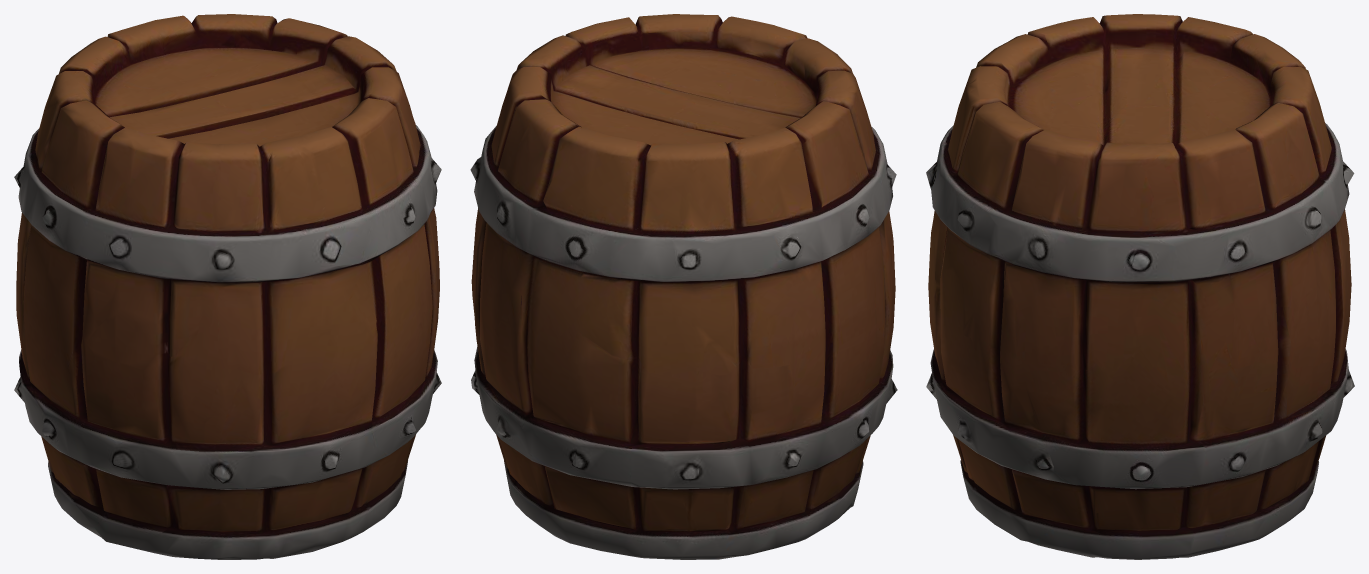
The model's file is barril.glb.
3 renders of one model, left to right at view 1: azimuth 30°, elevation 25°; view 2: azimuth 150°, elevation 25°; view 3: azimuth 270°, elevation 25°, orthographic.
Visible parts, largest first — view 1: tripo_node_68ee5150-70bb-452a-a6b7-eeb33f22aaec; view 2: tripo_node_68ee5150-70bb-452a-a6b7-eeb33f22aaec; view 3: tripo_node_68ee5150-70bb-452a-a6b7-eeb33f22aaec.
Part boxes in pixels (left/top/right/bottom): tripo_node_68ee5150-70bb-452a-a6b7-eeb33f22aaec: left=14, top=14, right=441, bottom=559; tripo_node_68ee5150-70bb-452a-a6b7-eeb33f22aaec: left=470, top=14, right=897, bottom=559; tripo_node_68ee5150-70bb-452a-a6b7-eeb33f22aaec: left=926, top=14, right=1354, bottom=559.
Bounding box in the file's own units: 0.946 × 1 × 0.9482.
Materials: 1 (1 with a texture image).
